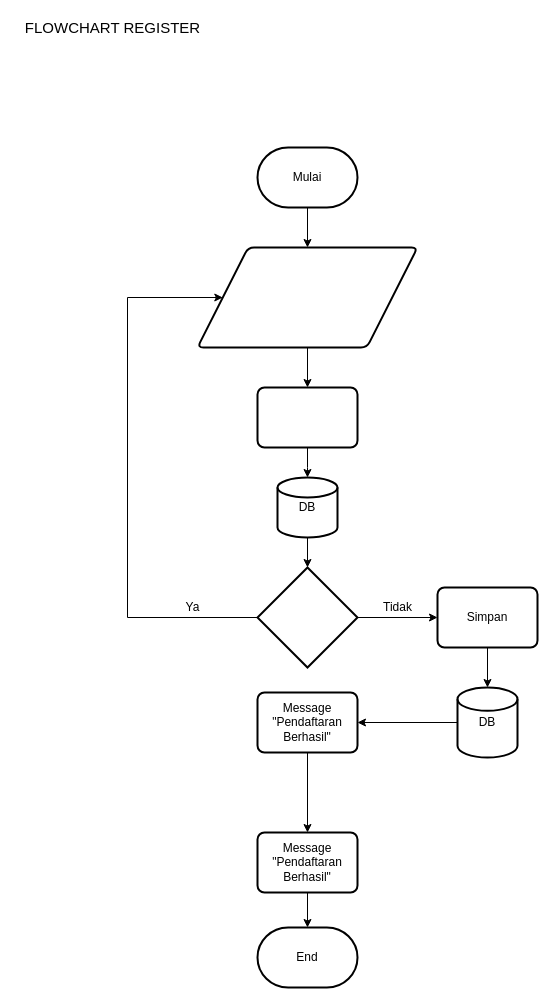
The diagram is 555 pixels wide and 1005 high, and some of its shapes have lost their labels. Here are the shapes that lost their labels. From the top down, the centre of each, then its label:
At point (307, 297): "Masukkan NIK, Nama Lengkap, Username, Password, Alamat, Telpon".
At point (307, 417): "CEK".
At point (307, 617): "NIK sudah ada ?".
